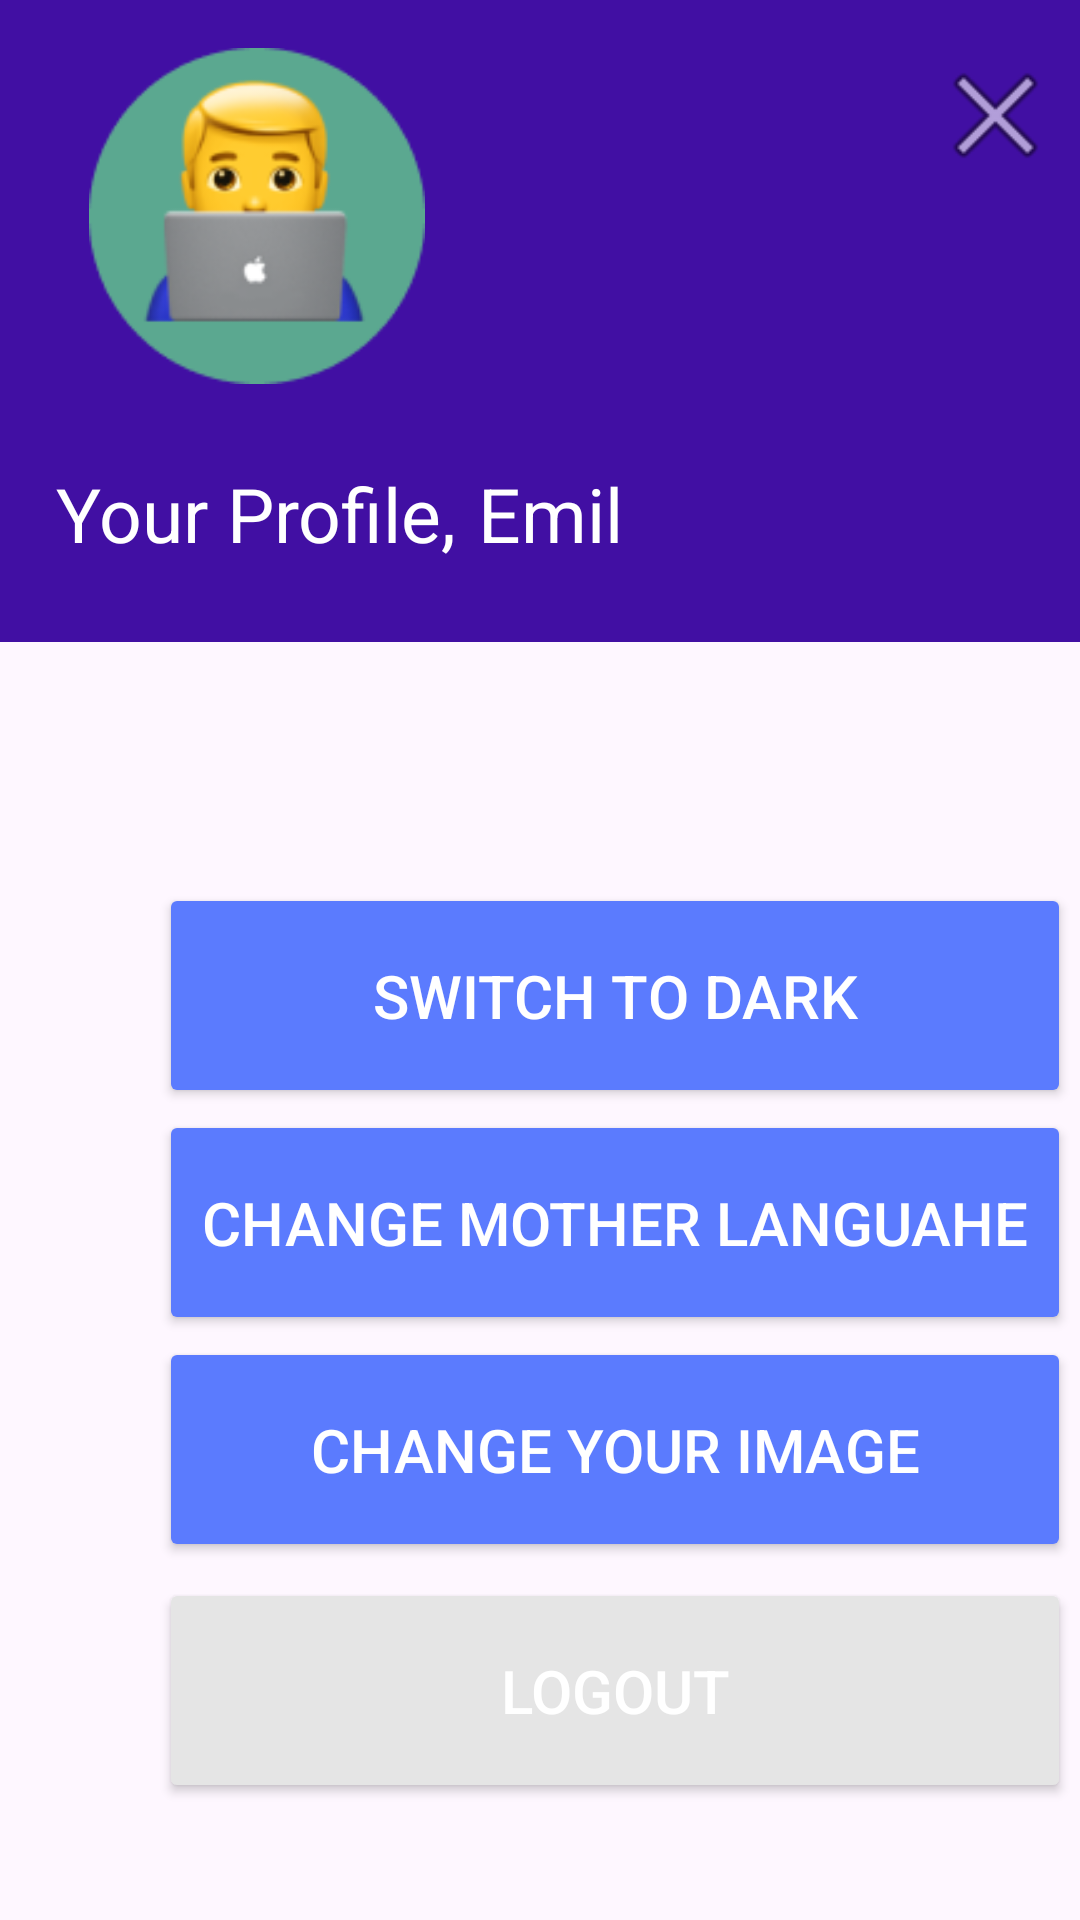

Where icons sit on this 1080w x 1920h app screen, as (left=x1, top=y1, right=x2, bottom=y2):
close clear cancel: (left=954, top=74, right=1037, bottom=157)
